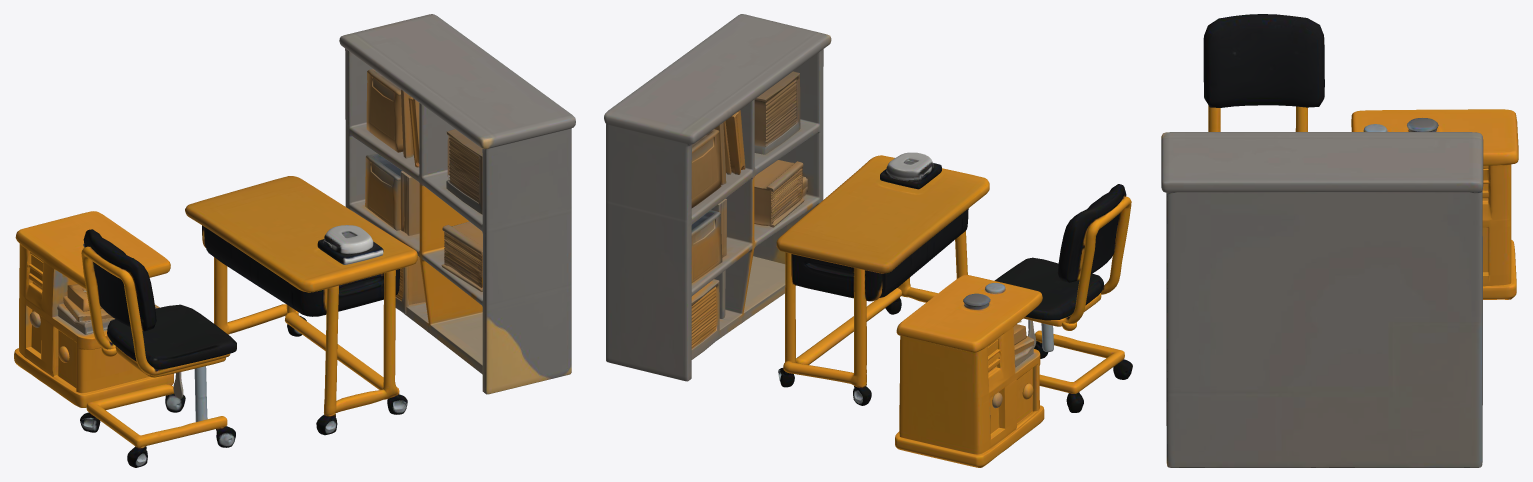
Rendered from toonstudio_classroom_furniture.glb.
3 views of the same model, side by side, from view 1: azimuth 30°, elevation 25°; view 2: azimuth 150°, elevation 25°; view 3: azimuth 270°, elevation 25° (orthographic). The views are drawn at different scales.
Parts seen in each view (by area): view 1: b530577c_7d04_4ba7_a1b7_979f79db3f69; view 2: b530577c_7d04_4ba7_a1b7_979f79db3f69; view 3: b530577c_7d04_4ba7_a1b7_979f79db3f69.
Boxes of the visible parts, x1,y1,x2,y2 form: b530577c_7d04_4ba7_a1b7_979f79db3f69: (14, 14, 575, 467); b530577c_7d04_4ba7_a1b7_979f79db3f69: (604, 14, 1132, 467); b530577c_7d04_4ba7_a1b7_979f79db3f69: (1161, 14, 1518, 467).
Bounding box in the file's own units: 2.5 × 1.45 × 1.61.
1 material, 1 textured.
